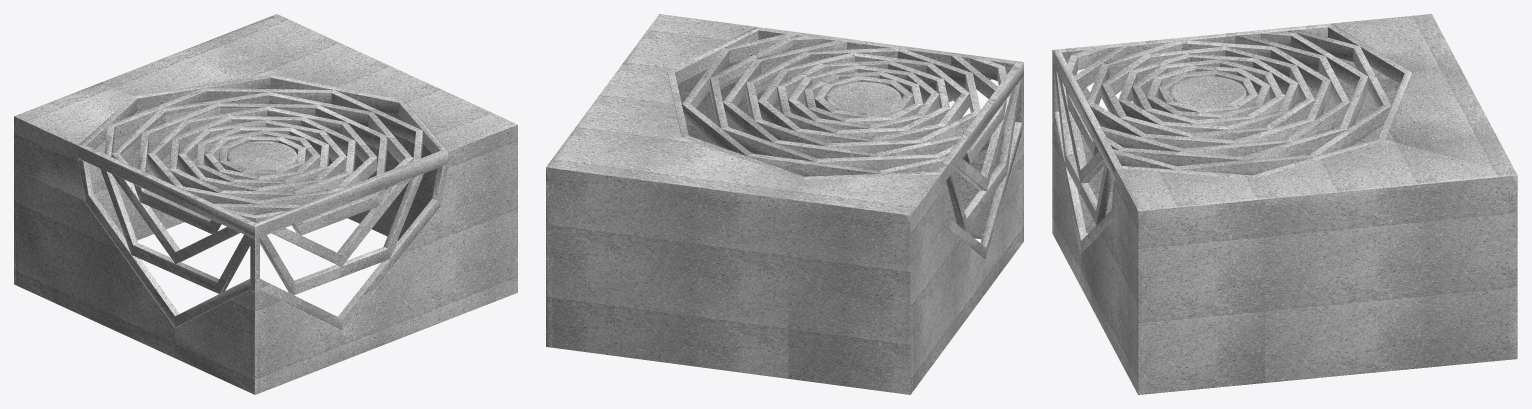
File: MesaS5.obj
The picture shows the model from 3 angles, left to right: view 1: azimuth 30°, elevation 25°; view 2: azimuth 150°, elevation 25°; view 3: azimuth 270°, elevation 25°; orthographic projection. The views are drawn at different scales.
Parts seen in each view (by area): view 1: MesaS5; view 2: MesaS5; view 3: MesaS5.
Part boxes in pixels (x1,y1,x2,y2): MesaS5: (14,14,517,394); MesaS5: (546,14,1023,394); MesaS5: (1052,14,1517,394).
Size of the model in its own units: 6.64 by 2.9 by 6.62.
1 material, 1 textured.
